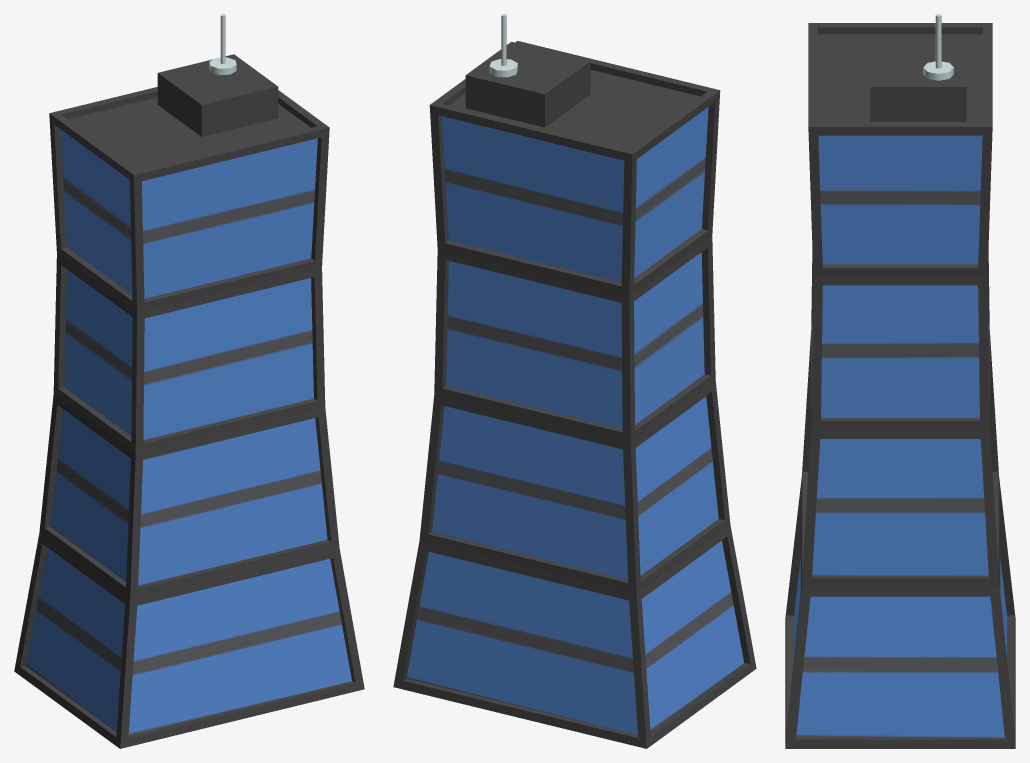
Rendered from Skyscrapers_01.FBX.
The picture shows the model from 3 angles, left to right: view 1: azimuth 30°, elevation 25°; view 2: azimuth 150°, elevation 25°; view 3: azimuth 270°, elevation 25°; orthographic projection. The views are drawn at different scales.
Parts seen in each view (by area): view 1: Line003, Box001, Circle001; view 2: Line003, Box001, Circle001; view 3: Line003, Box001, Circle001.
Boxes of the visible parts, bbox=[...] form: Line003: bbox=[14, 87, 364, 748]; Box001: bbox=[157, 54, 278, 136]; Circle001: bbox=[209, 14, 236, 75]; Line003: bbox=[393, 41, 756, 748]; Box001: bbox=[465, 41, 590, 127]; Circle001: bbox=[489, 14, 517, 77]; Line003: bbox=[785, 23, 1015, 748]; Box001: bbox=[870, 46, 966, 121]; Circle001: bbox=[923, 14, 953, 80].
Size of the model in its own units: 80 by 200 by 60.
Materials: 3 (1 with a texture image).
